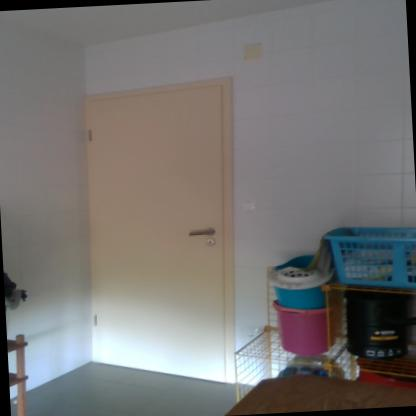closed: (69, 75, 248, 377)
